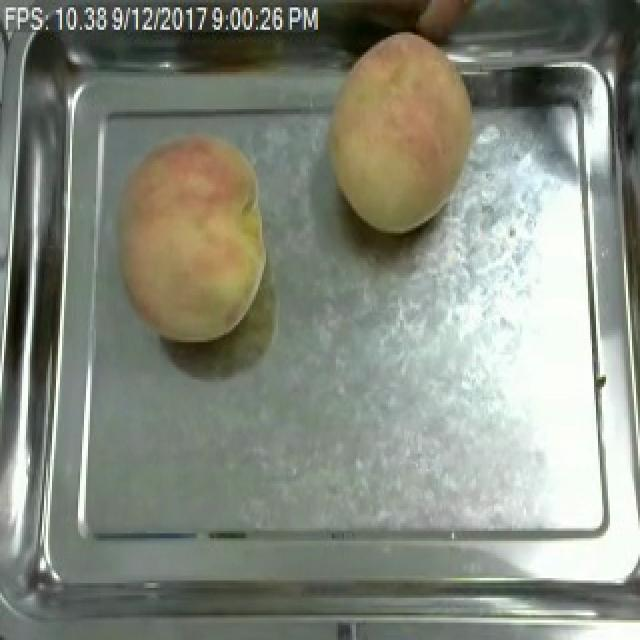Fruit: (102, 124, 276, 352), (314, 19, 484, 240)
